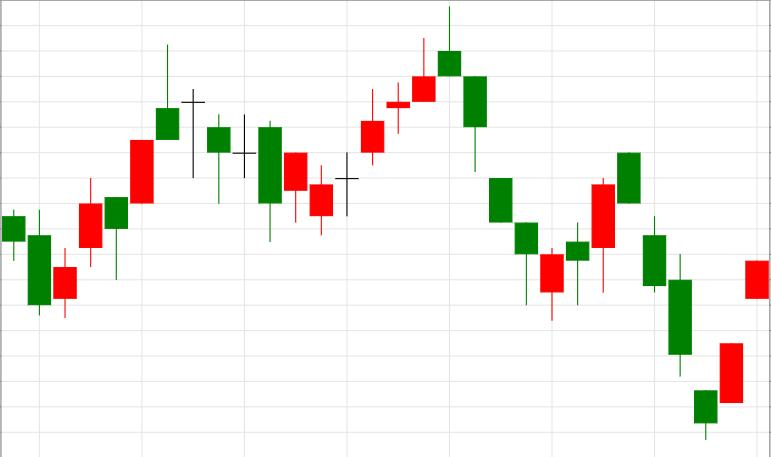shooting_star_fall: (54, 46, 179, 318)
